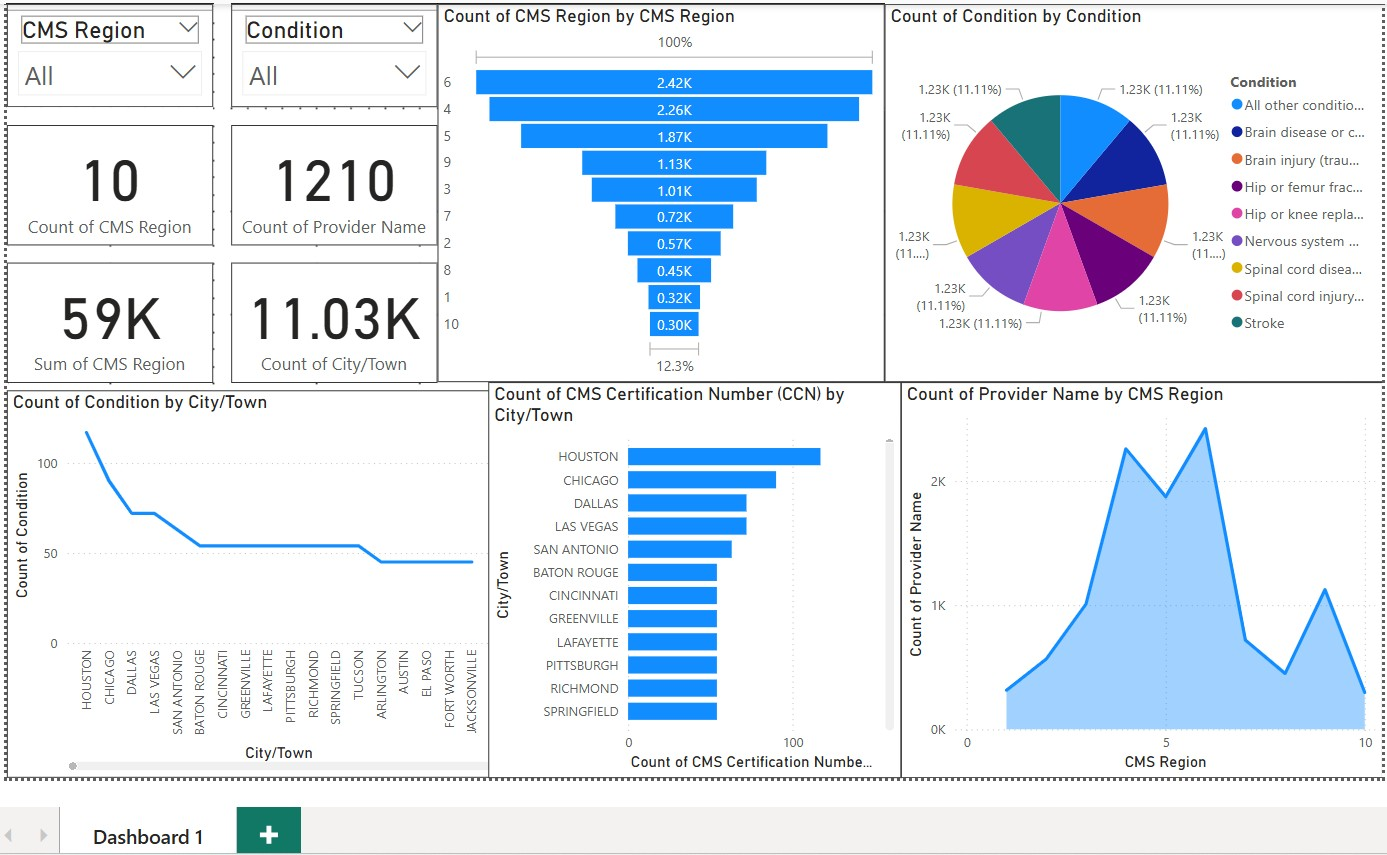

The dashboard page shown, as its layout file describes it:
{"tool":"powerbi","page":{"name":"Dashboard 1","canvas":[1280,720],"ordinal":0},"visuals":[{"type":"lineChart","fields":{"Y":["CountNonNull(Inpatient_Rehabilitation_Facili.Condition)"],"Category":["Inpatient_Rehabilitation_Facili.City/Town"]},"box":[0,360,456,360],"z":0},{"type":"clusteredBarChart","fields":{"Y":["CountNonNull(Inpatient_Rehabilitation_Facili.CMS Certification Number (CCN))"],"Category":["Inpatient_Rehabilitation_Facili.City/Town"]},"box":[448,352,384,368],"z":1},{"type":"areaChart","fields":{"Y":["CountNonNull(Inpatient_Rehabilitation_Facili.Provider Name)"],"Category":["Inpatient_Rehabilitation_Facili.CMS Region"]},"box":[832,352,448,368],"z":2},{"type":"pieChart","fields":{"Category":["Inpatient_Rehabilitation_Facili.Condition"],"Y":["CountNonNull(Inpatient_Rehabilitation_Facili.Condition)"]},"box":[816,0,464,352],"z":3},{"type":"slicer","fields":{"Values":["Inpatient_Rehabilitation_Facili.CMS Region"]},"box":[0,0,192,96],"z":4},{"type":"funnel","fields":{"Y":["CountNonNull(Inpatient_Rehabilitation_Facili.CMS Region)"],"Category":["Inpatient_Rehabilitation_Facili.CMS Region"]},"box":[400,0,416,352],"z":5},{"type":"card","fields":{"Values":["Count(Inpatient_Rehabilitation_Facili.CMS Region)"]},"box":[0,96,192,112],"z":6},{"type":"card","fields":{"Values":["Sum(Inpatient_Rehabilitation_Facili.CMS Region)"]},"box":[0,240,192,112],"z":7},{"type":"card","fields":{"Values":["CountNonNull(Inpatient_Rehabilitation_Facili.City/Town)"]},"box":[208,240,192,112],"z":8},{"type":"slicer","fields":{"Values":["Inpatient_Rehabilitation_Facili.Condition"]},"box":[208,0,192,96],"z":10},{"type":"card","fields":{"Values":["Count(Inpatient_Rehabilitation_Facili.CMS Region)"]},"box":[0,112,192,112],"z":11},{"type":"card","fields":{"Values":["Count(Inpatient_Rehabilitation_Facili.Provider Name)"]},"box":[208,112,192,112],"z":12}]}

Visuals, with their boxes in screenshot pixels (x1, y1, x2, y2):
lineChart - CountNonNull(Inpatient_Rehabilitation_Facili.Condition) x Inpatient_Rehabilitation_Facili.City/Town: rect(7, 388, 495, 773)
clusteredBarChart - CountNonNull(Inpatient_Rehabilitation_Facili.CMS Certification Number (CCN)) x Inpatient_Rehabilitation_Facili.City/Town: rect(486, 380, 896, 773)
areaChart - CountNonNull(Inpatient_Rehabilitation_Facili.Provider Name) x Inpatient_Rehabilitation_Facili.CMS Region: rect(896, 380, 1375, 773)
pieChart - Inpatient_Rehabilitation_Facili.Condition x CountNonNull(Inpatient_Rehabilitation_Facili.Condition): rect(879, 4, 1375, 380)
slicer - Inpatient_Rehabilitation_Facili.CMS Region: rect(7, 4, 212, 106)
funnel - CountNonNull(Inpatient_Rehabilitation_Facili.CMS Region) x Inpatient_Rehabilitation_Facili.CMS Region: rect(435, 4, 879, 380)
card - Count(Inpatient_Rehabilitation_Facili.CMS Region): rect(7, 106, 212, 226)
card - Sum(Inpatient_Rehabilitation_Facili.CMS Region): rect(7, 260, 212, 380)
card - CountNonNull(Inpatient_Rehabilitation_Facili.City/Town): rect(229, 260, 435, 380)
slicer - Inpatient_Rehabilitation_Facili.Condition: rect(229, 4, 435, 106)
card - Count(Inpatient_Rehabilitation_Facili.CMS Region): rect(7, 123, 212, 243)
card - Count(Inpatient_Rehabilitation_Facili.Provider Name): rect(229, 123, 435, 243)
